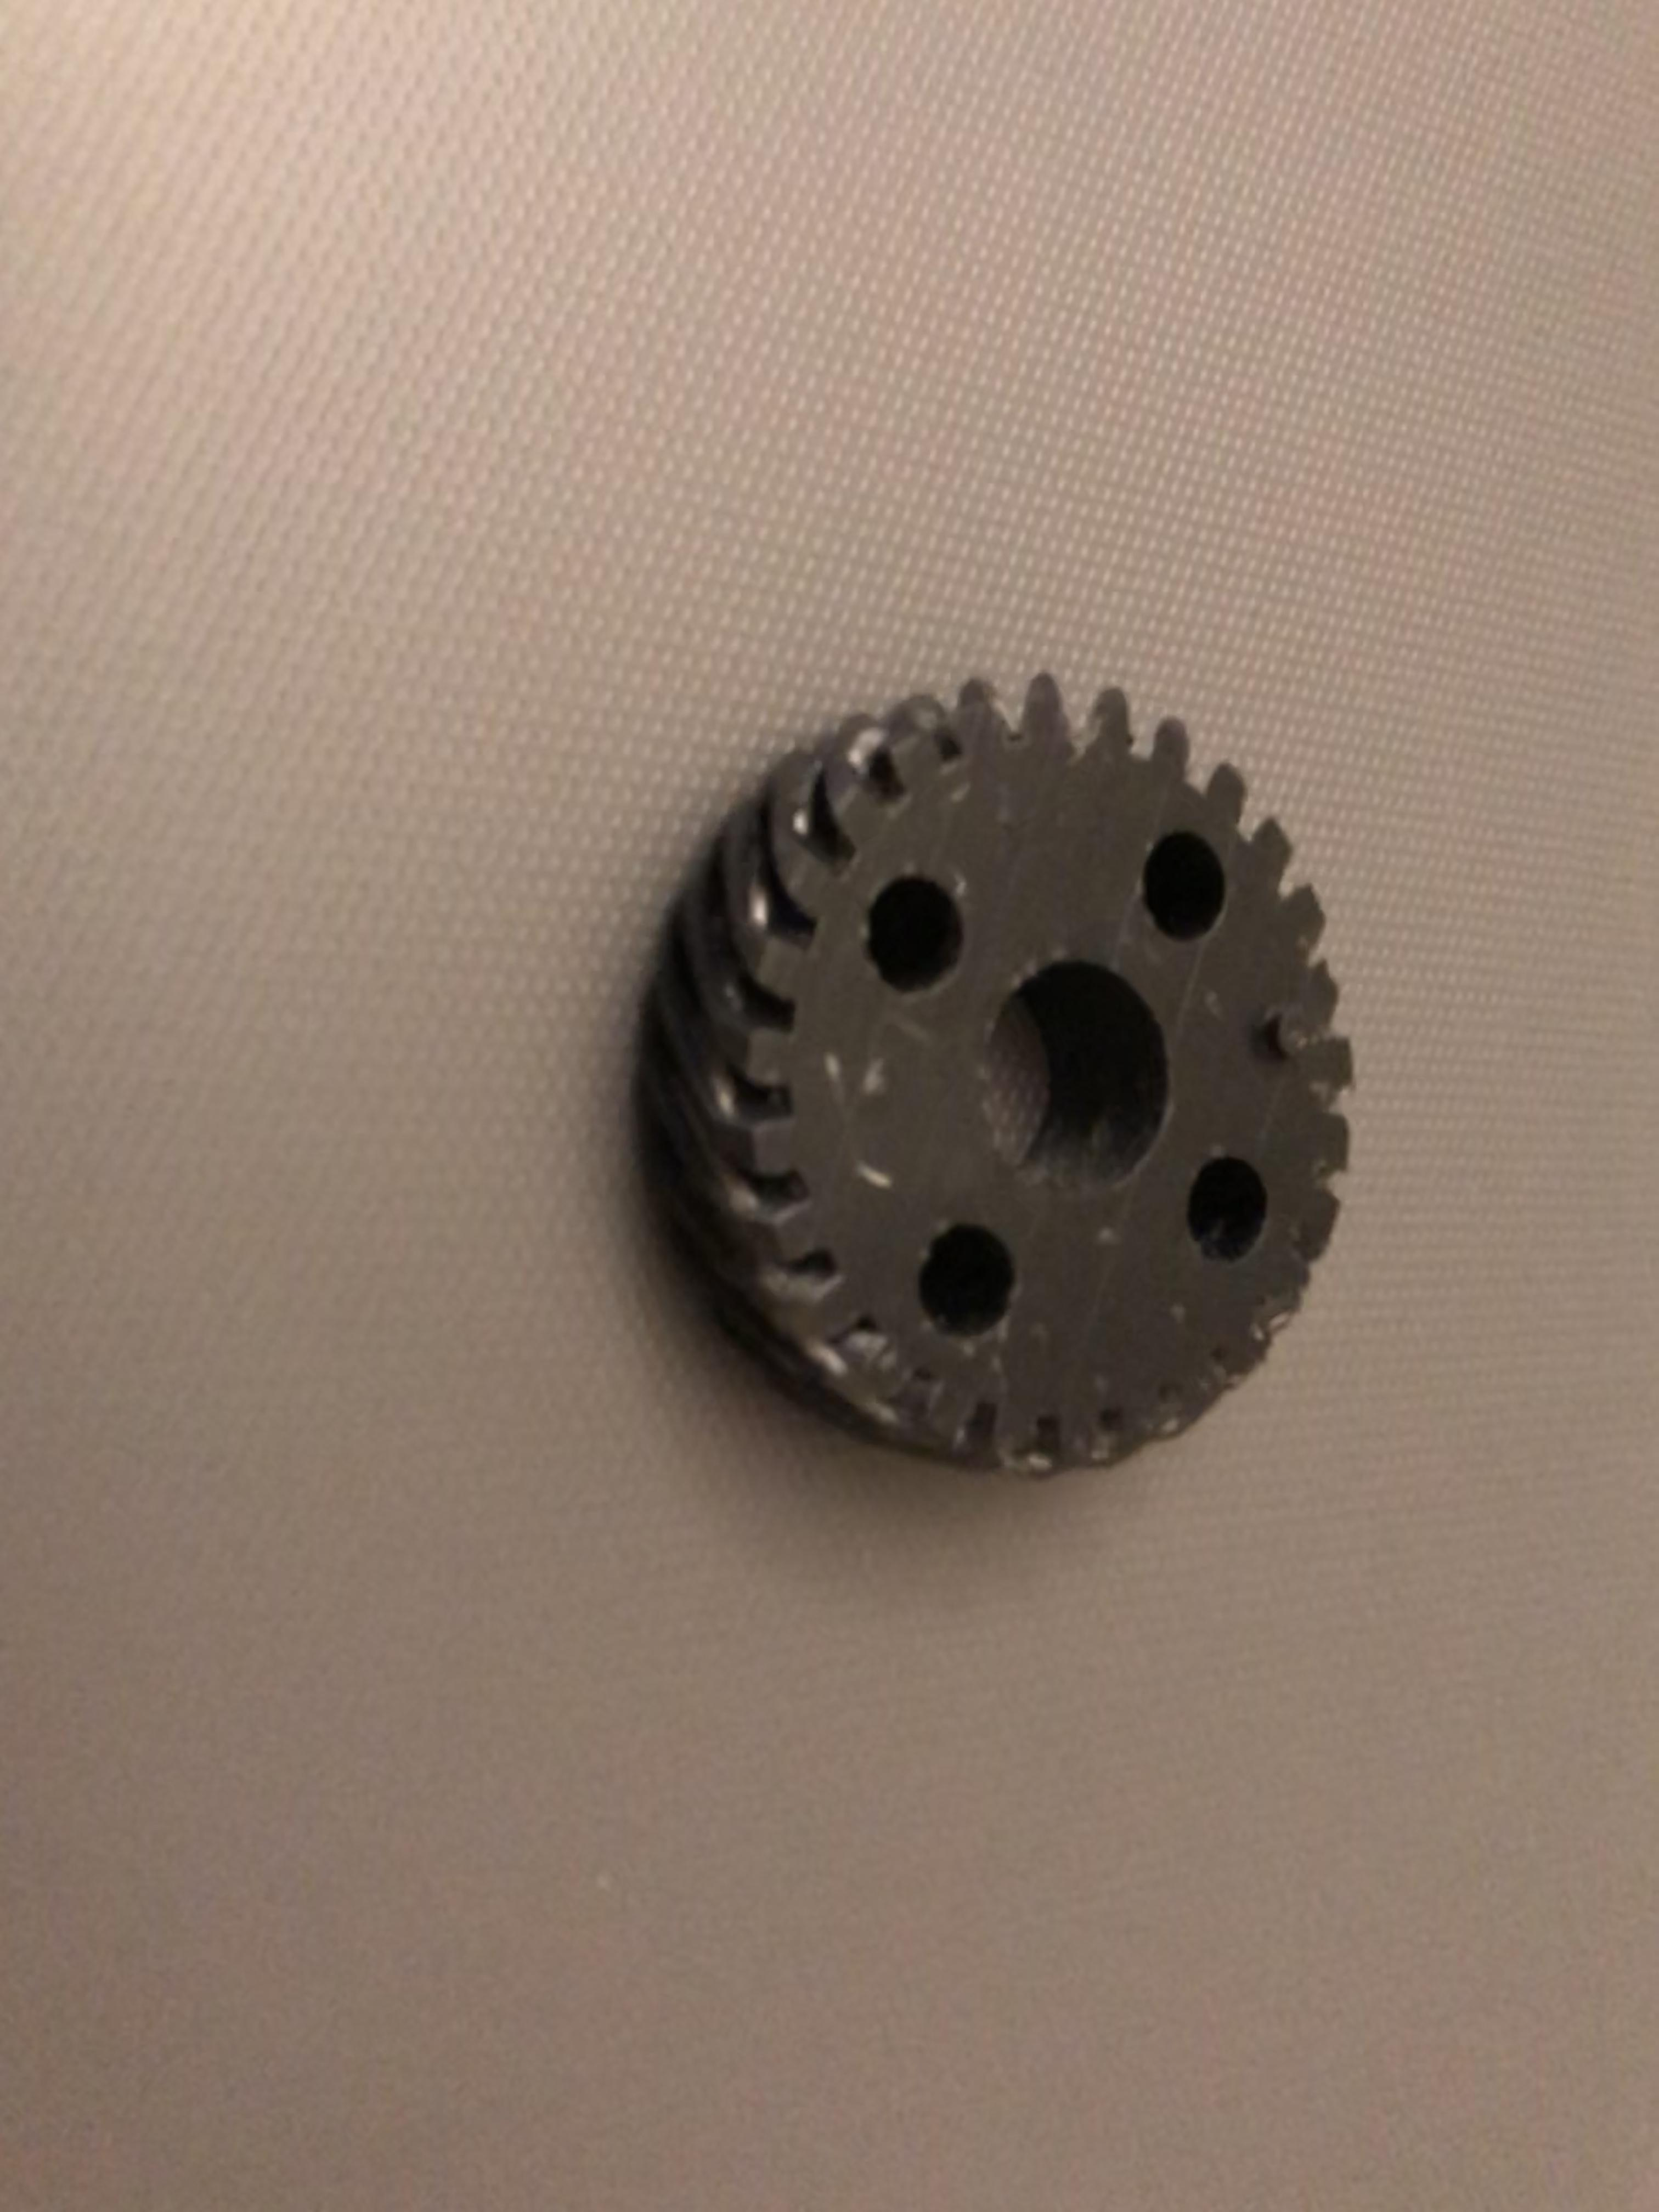Wheel: (612, 676, 1368, 1507)
